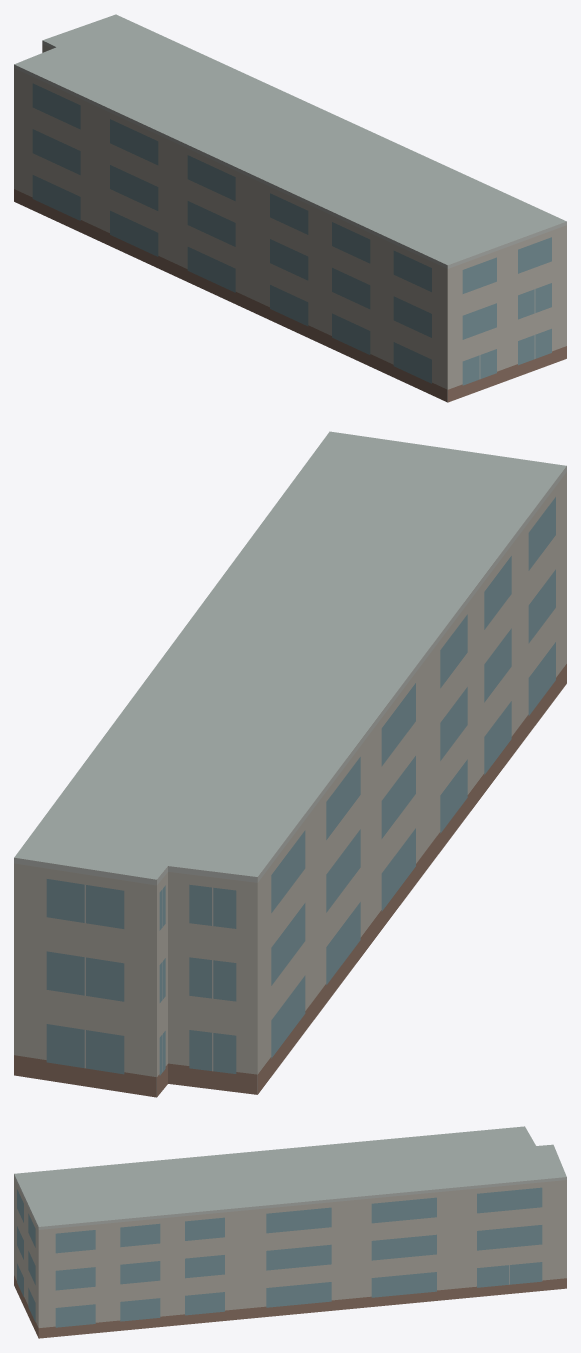
File: survey-upis-32624355.glb
3 views of the same model, one above another, from view 1: azimuth 30°, elevation 25°; view 2: azimuth 150°, elevation 25°; view 3: azimuth 270°, elevation 25° (orthographic). The views are drawn at different scales.
Parts seen in each view (by area): view 1: survey-upis-32624355.tmp; view 2: survey-upis-32624355.tmp; view 3: survey-upis-32624355.tmp.
Part boxes in pixels (x1=…): survey-upis-32624355.tmp: x1=14, y1=14, x2=566, y2=402; survey-upis-32624355.tmp: x1=14, y1=431, x2=566, y2=1097; survey-upis-32624355.tmp: x1=14, y1=1126, x2=566, y2=1338.
Size of the model in its own units: 17.71 by 9.15 by 41.11.
